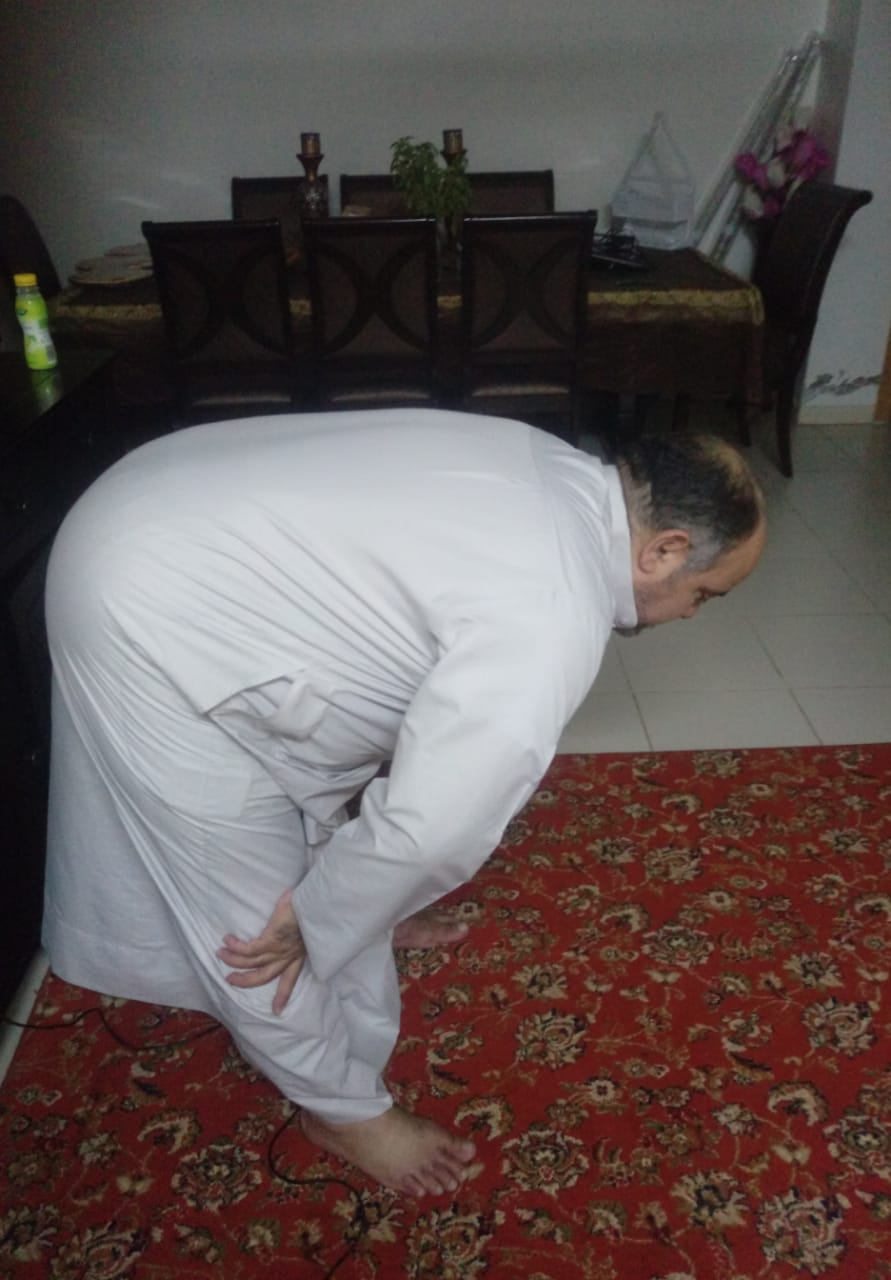ruku: (36, 379, 774, 1227)
